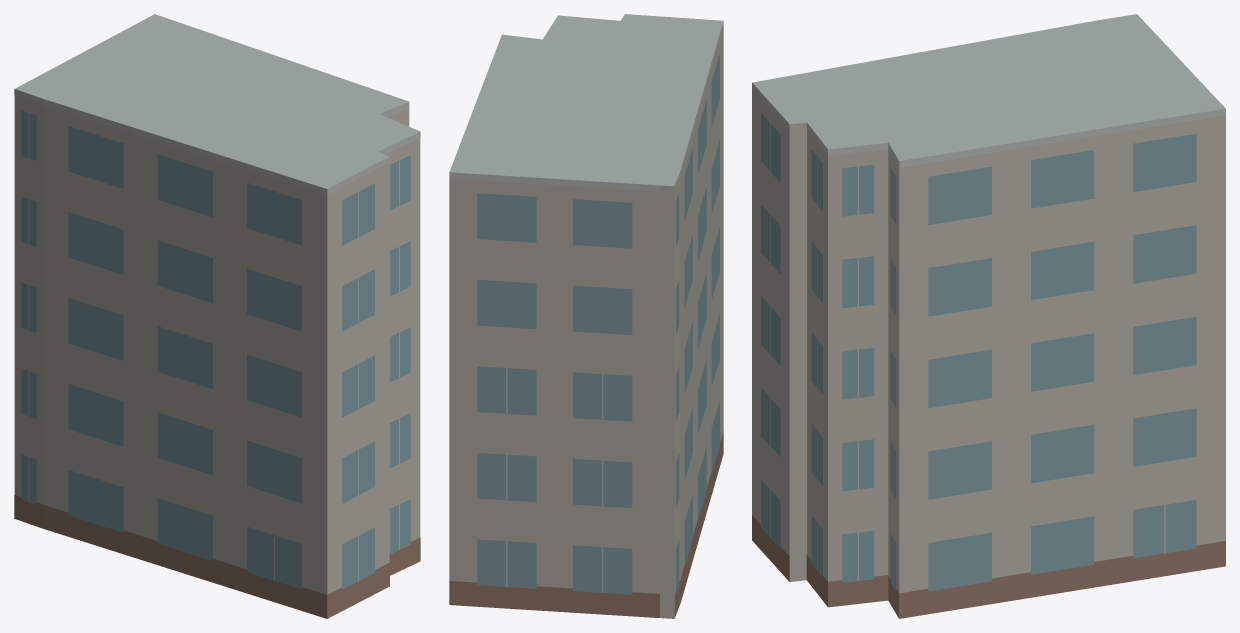
The model's file is survey-upis-32885963.glb.
3 views of the same model, side by side, from view 1: azimuth 30°, elevation 25°; view 2: azimuth 150°, elevation 25°; view 3: azimuth 270°, elevation 25° (orthographic). The views are drawn at different scales.
Visible parts, largest first — view 1: survey-upis-32885963.tmp; view 2: survey-upis-32885963.tmp; view 3: survey-upis-32885963.tmp.
Part boxes in pixels (x1=…): survey-upis-32885963.tmp: x1=14, y1=14, x2=420, y2=618; survey-upis-32885963.tmp: x1=449, y1=14, x2=723, y2=618; survey-upis-32885963.tmp: x1=752, y1=14, x2=1225, y2=618.
Bounding box in the file's own units: 11.83 × 17.15 × 16.09.
